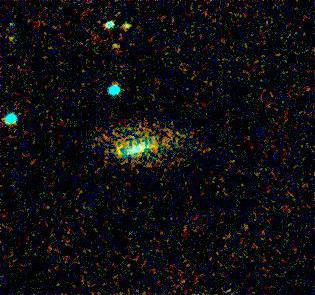star: (102, 34, 132, 64)
